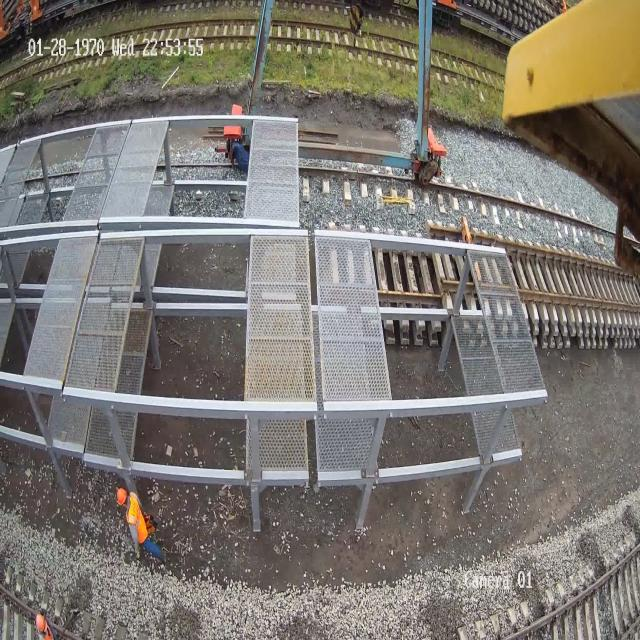Helmet: (116, 488, 127, 506), (36, 613, 46, 632)
Person: (116, 487, 166, 564), (35, 613, 55, 639)
